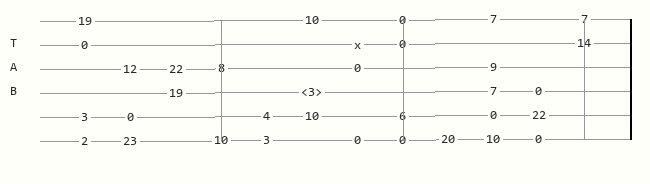0: (81, 38, 92, 50), (127, 110, 138, 122), (354, 134, 365, 146), (354, 62, 365, 74), (399, 38, 410, 50), (399, 134, 410, 146), (399, 14, 410, 26), (490, 110, 501, 122), (535, 134, 546, 146), (535, 86, 546, 98)
10: (214, 134, 232, 146), (305, 14, 323, 26), (305, 110, 323, 122), (486, 134, 504, 146)
12: (123, 62, 141, 74)
14: (577, 38, 595, 50)
19: (78, 14, 96, 26), (169, 86, 187, 98)
2: (81, 134, 92, 146)
20: (441, 134, 459, 146)
22: (169, 62, 187, 74), (532, 110, 550, 122)
23: (123, 134, 141, 146)
3: (81, 110, 92, 122), (263, 134, 274, 146)
4: (263, 110, 274, 122)
6: (399, 110, 410, 122)
7: (490, 14, 501, 26), (490, 86, 501, 98), (581, 14, 592, 26)
8: (218, 62, 229, 74)
9: (490, 62, 501, 74)
harmonic: (301, 86, 326, 98)
x: (354, 39, 365, 49)
